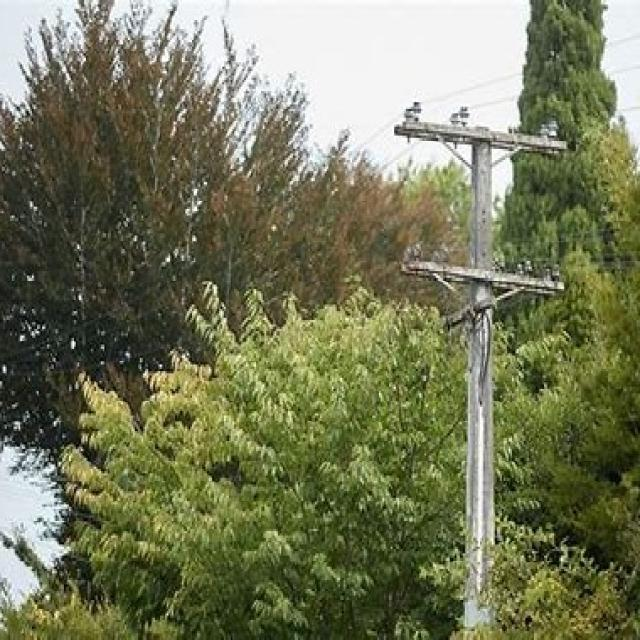utility poles: (388, 83, 554, 636)
